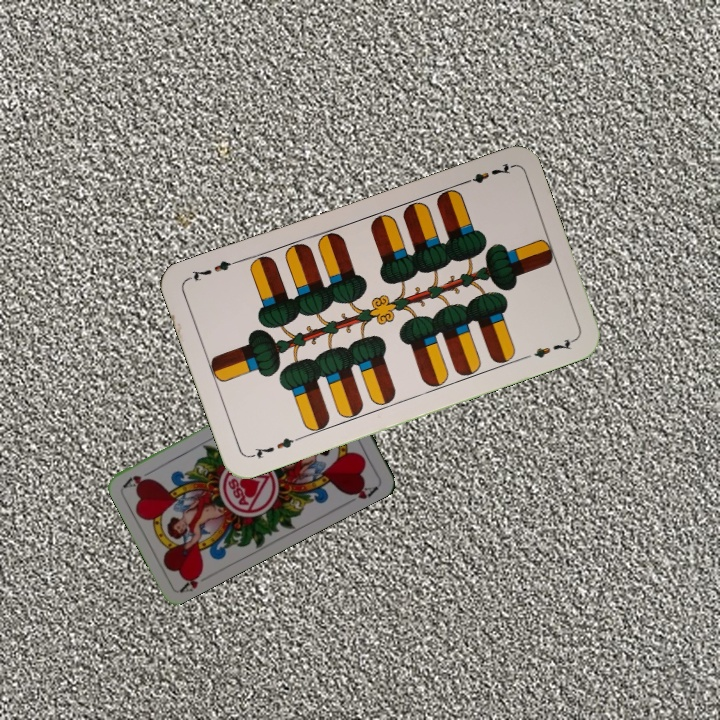E7: (246, 432, 303, 461), (457, 159, 514, 188)
HA: (176, 566, 215, 595)
